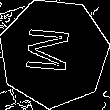M_E: (27, 28, 81, 78)
